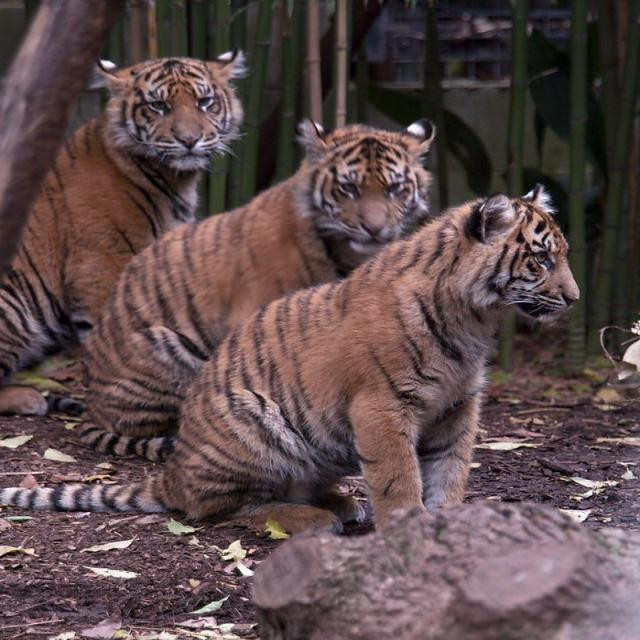Tiger: (100, 174, 597, 544), (85, 109, 451, 459), (0, 41, 270, 402)
